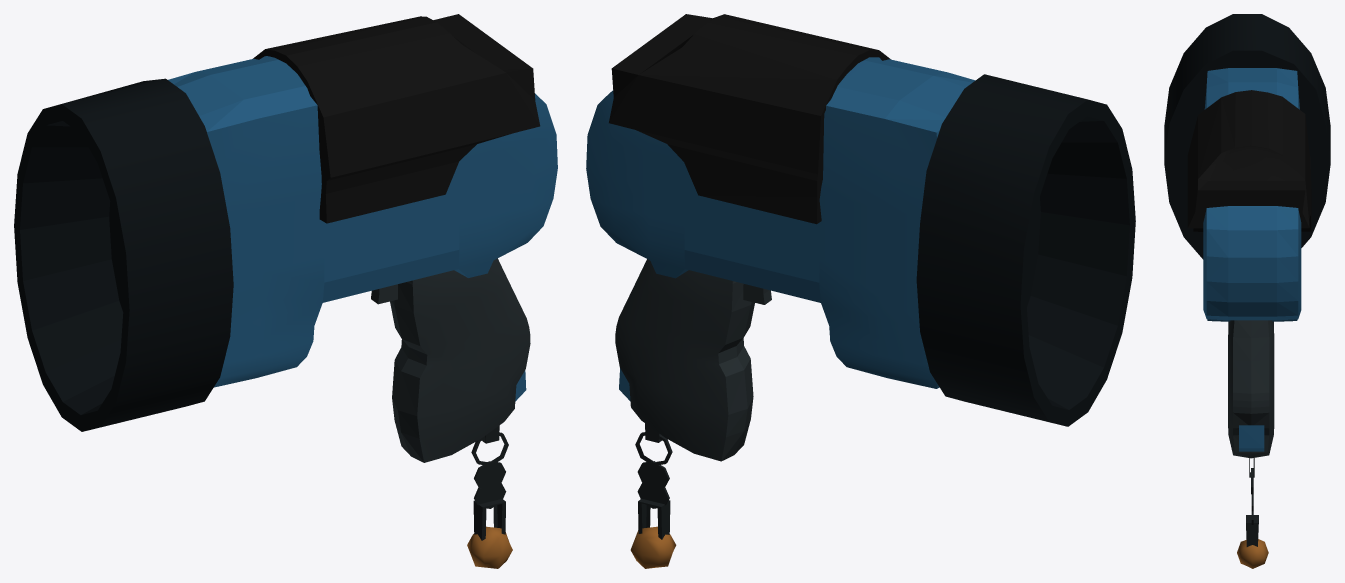
File: GunDEF.FBX
The picture shows the model from 3 angles, left to right: view 1: azimuth 30°, elevation 25°; view 2: azimuth 150°, elevation 25°; view 3: azimuth 270°, elevation 25°; orthographic projection. The views are drawn at different scales.
Visible parts, largest first — view 1: Box001; view 2: Box001; view 3: Box001.
Boxes of the visible parts, left/top/right/bottom form: Box001: left=14, top=14, right=557, bottom=568; Box001: left=586, top=14, right=1135, bottom=568; Box001: left=1164, top=14, right=1330, bottom=568.
Bounding box in the file's own units: 23.64 × 27.51 × 10.24.
